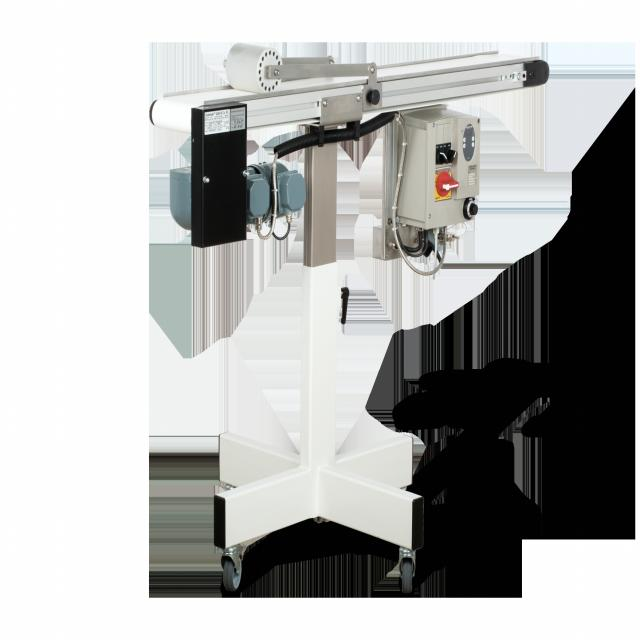Convoyeur: (140, 31, 560, 156)
